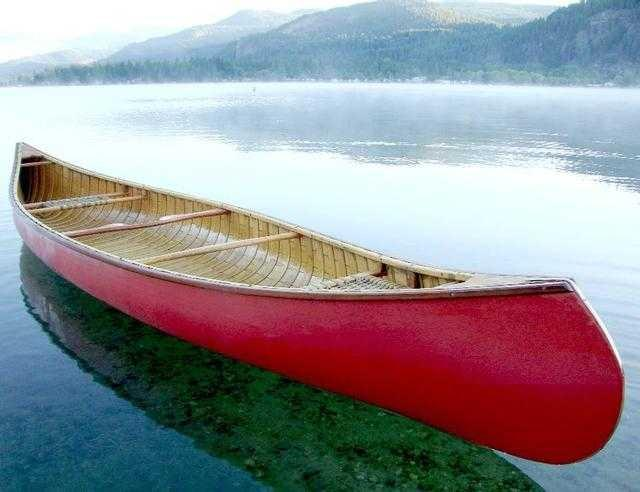kayak: (3, 144, 627, 467)
